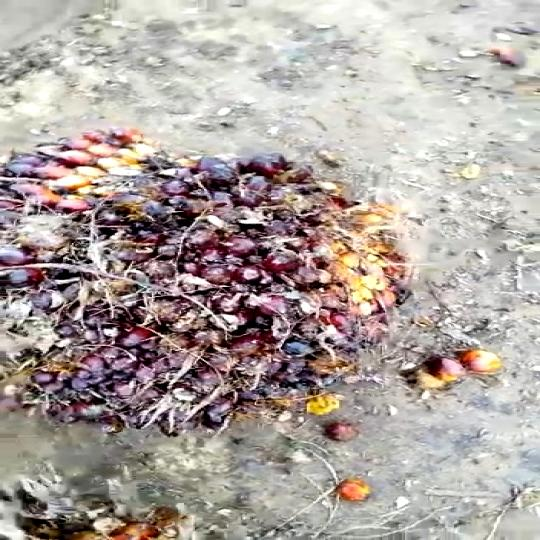mentah: (1, 120, 438, 447)
